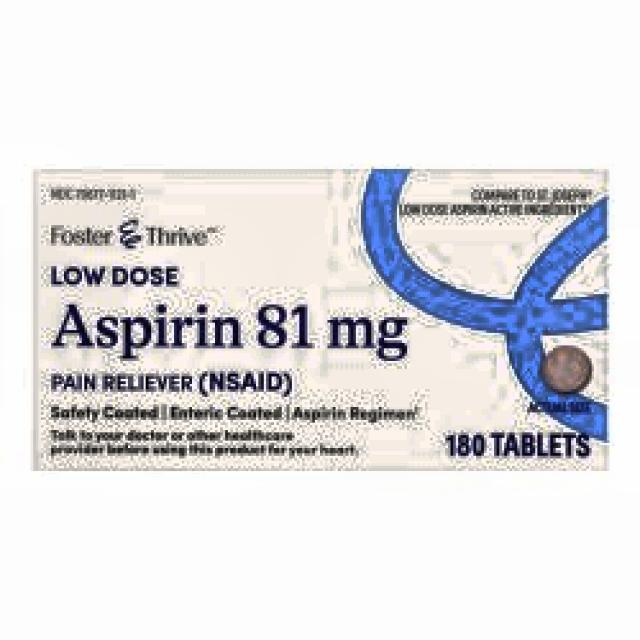Aspirin: (32, 170, 609, 465)
